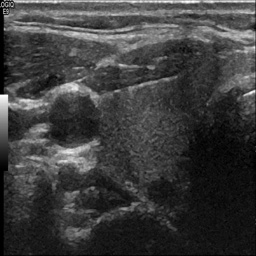mass: (145, 177, 187, 208)
